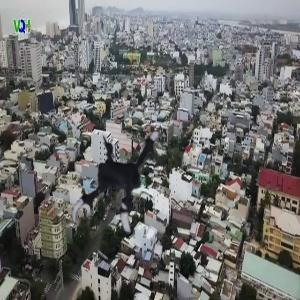drone: (60, 123, 190, 253)
